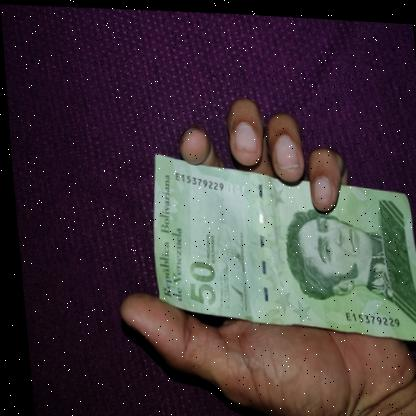fifty-front-vef: (139, 143, 416, 342)
